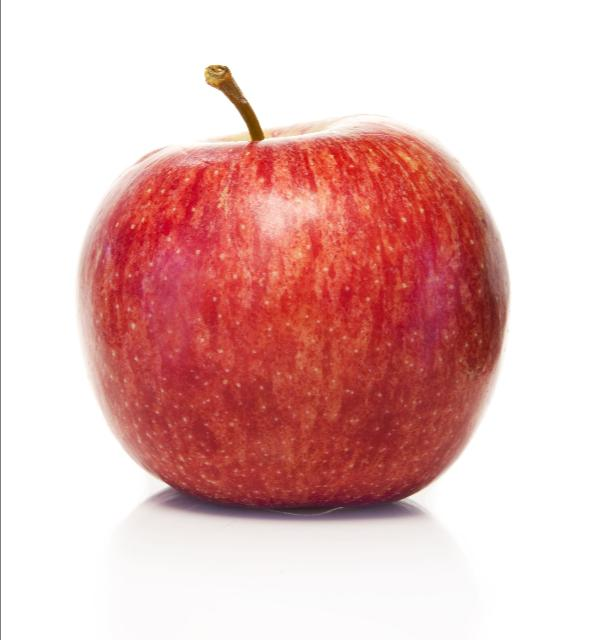Apples: (74, 61, 510, 512)
